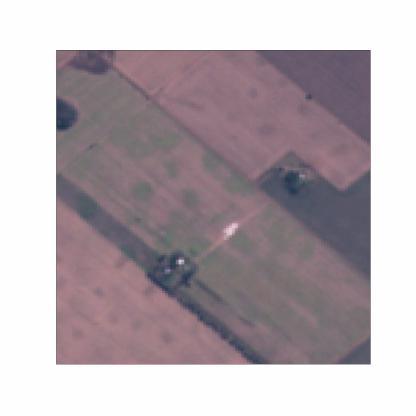silobolsa: (222, 222, 237, 240)
